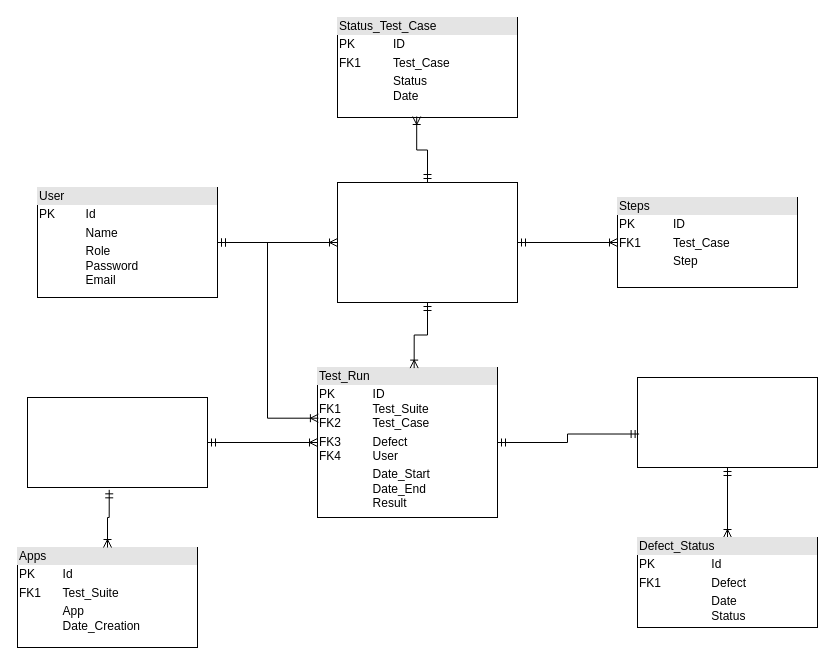
The diagram is 835 pixels wide and 665 high, and some of its shapes have lost their labels. Here are the shapes that lost their labels. From the top down, the box of each, then its label:
(336, 182, 518, 302): Test_Case PK Id FK1 User Title Description Expected_Result Priority
(26, 396, 208, 488): Test_Suite PK Id Ttile Description
(636, 376, 818, 468): Defect PK Id Desciprtion Severity Priority
